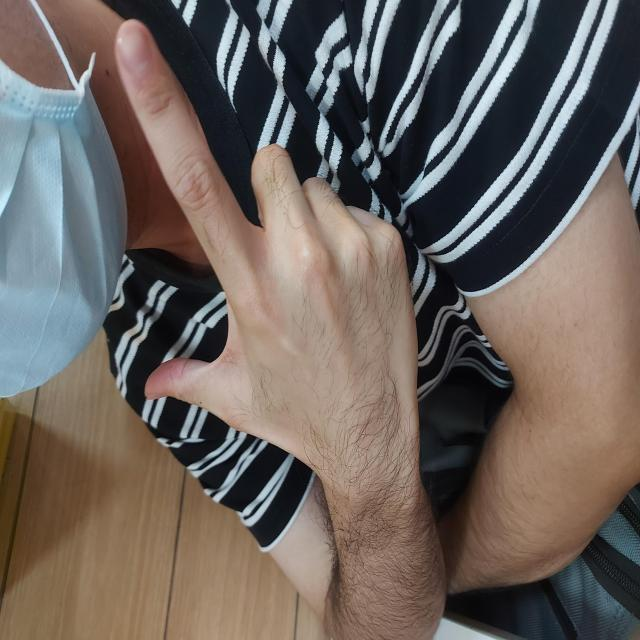G: (155, 112, 624, 419)
